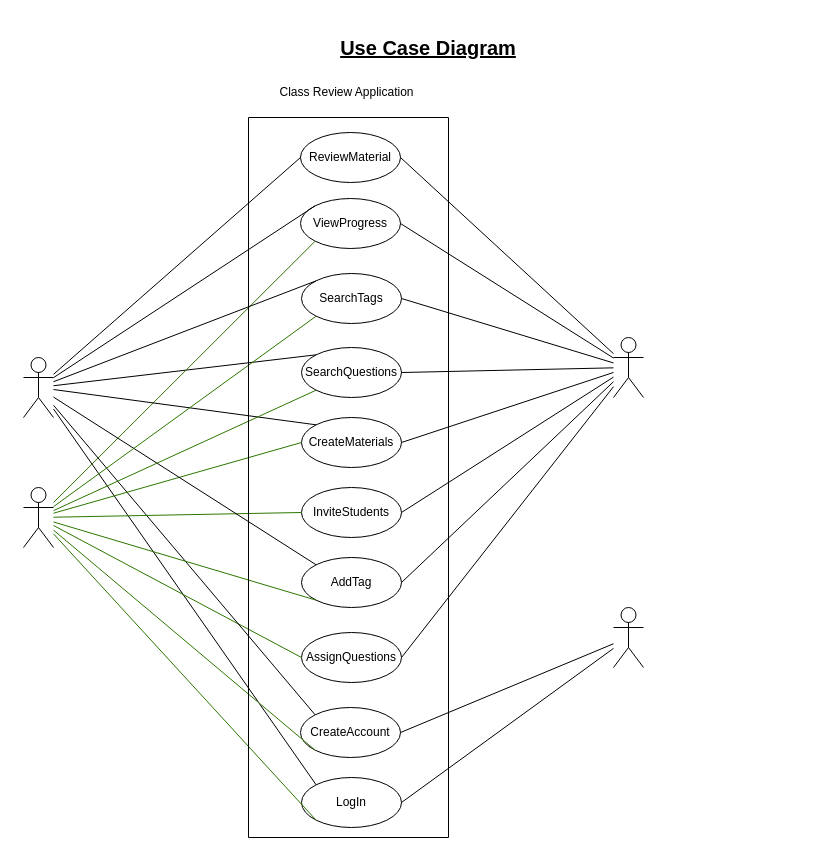
This 821x855 diagram has some shape labels left out. The box of each missing label's shape, as (x1, y1, x2, y2) in pixels:
Login Service: (612, 606, 644, 668)
Question Database (JSON): (612, 336, 644, 398)
Student: (22, 356, 54, 418)
Teacher: (22, 486, 54, 548)
